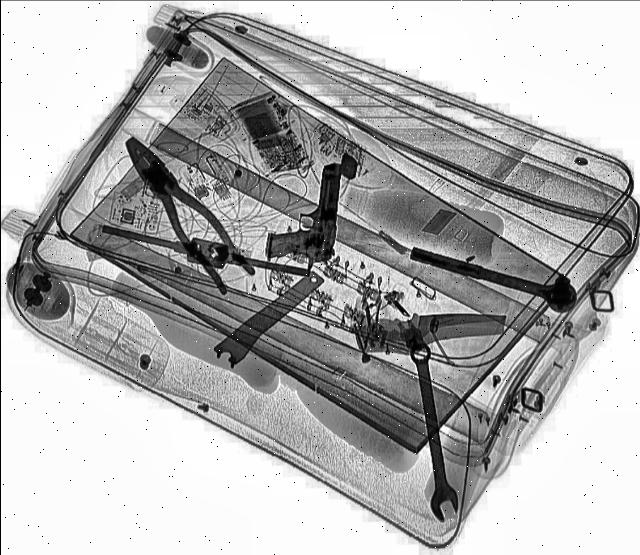Gun: (263, 161, 341, 265)
Pliers: (108, 127, 262, 296)
Wrench: (404, 342, 461, 522)
